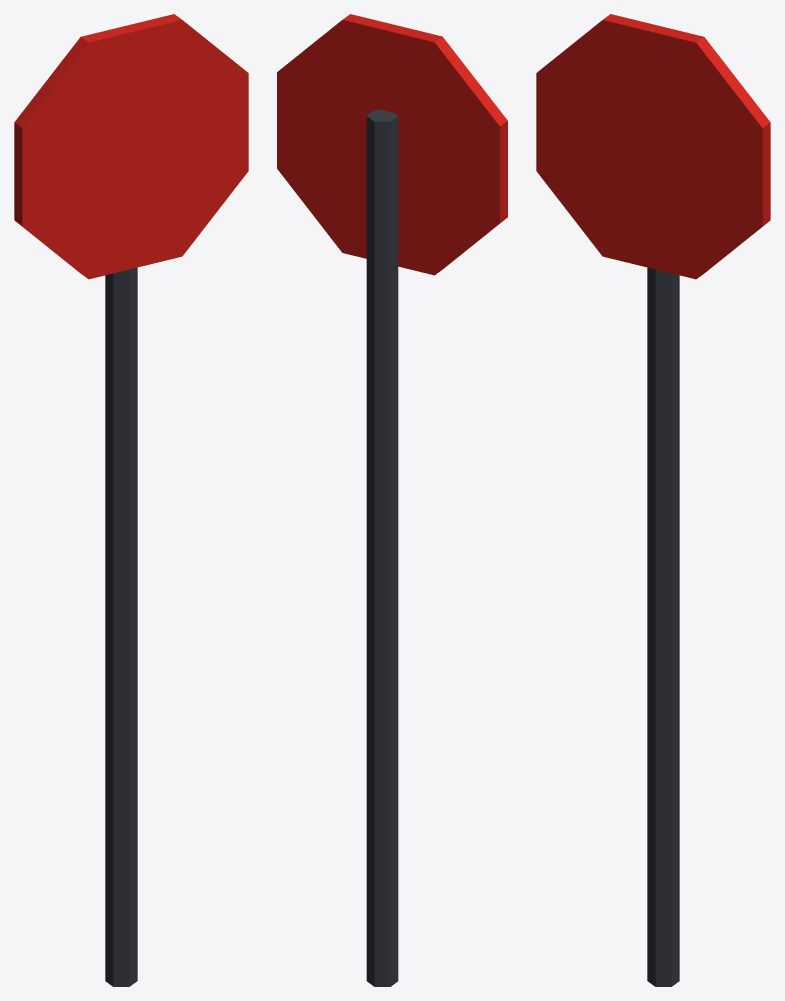
The model's file is road_sign_stop.glb.
3 renders of one model, left to right at view 1: azimuth 30°, elevation 25°; view 2: azimuth 150°, elevation 25°; view 3: azimuth 330°, elevation 25°, orthographic.
Visible parts, largest first — view 1: road_sign_stop; view 2: road_sign_stop; view 3: road_sign_stop.
Part boxes in pixels (x1=…): road_sign_stop: x1=14, y1=14, x2=248, y2=986; road_sign_stop: x1=277, y1=14, x2=507, y2=986; road_sign_stop: x1=536, y1=14, x2=770, y2=986.
Size of the model in its own units: 0.6467 by 2.62 by 0.11.
